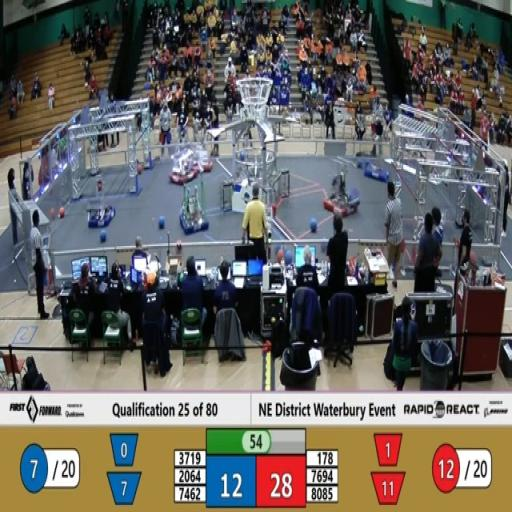robot: (356, 111, 392, 190), (80, 172, 121, 236), (322, 164, 360, 225), (187, 117, 218, 183), (175, 185, 212, 240), (169, 126, 199, 184)
